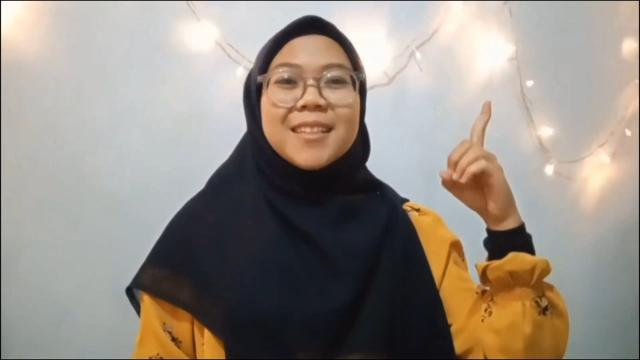D: (432, 99, 518, 219)
